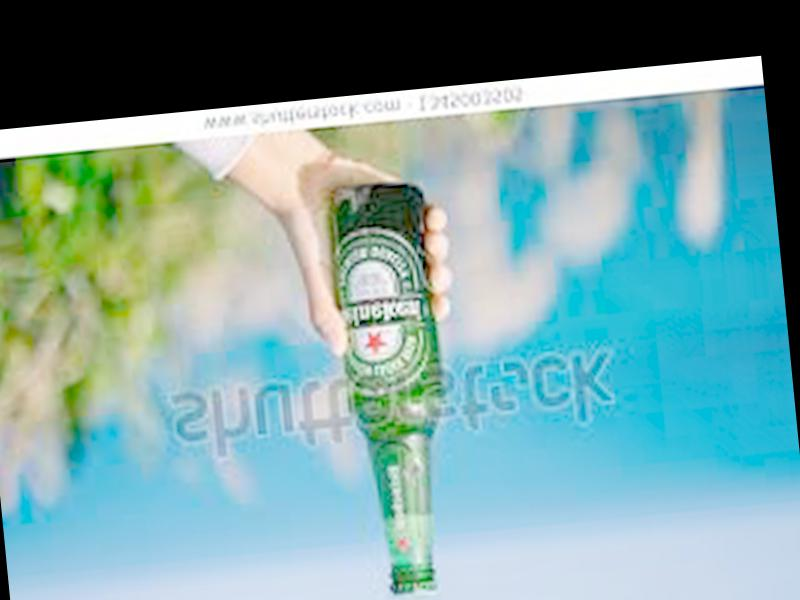Beer: (324, 177, 462, 600)
